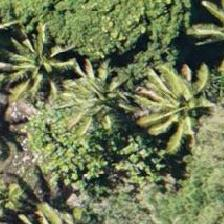coconut_tree: (57, 47, 147, 137), (127, 63, 217, 153), (0, 22, 80, 112)
